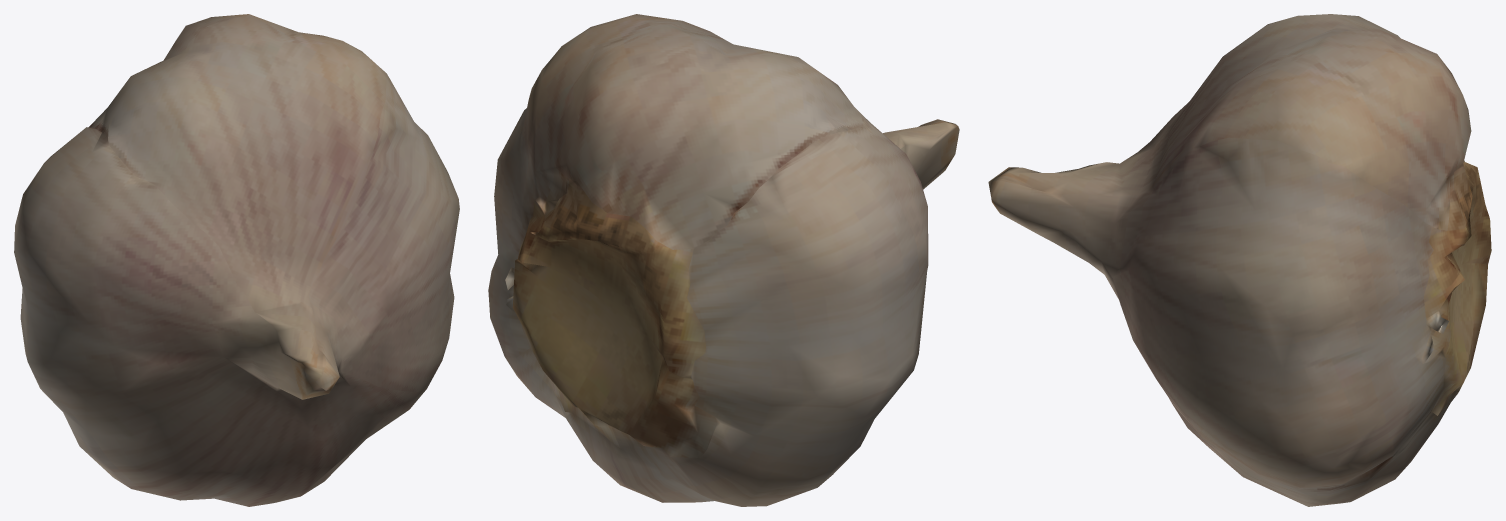
File: ref_cs_garlic.fbx
3 views of the same model, side by side, from view 1: azimuth 30°, elevation 25°; view 2: azimuth 150°, elevation 25°; view 3: azimuth 270°, elevation 25° (orthographic). The views are drawn at different scales.
Visible parts, largest first — view 1: ref_cs_garlic; view 2: ref_cs_garlic; view 3: ref_cs_garlic.
Boxes of the visible parts, left/top/right/bottom form: ref_cs_garlic: left=14, top=14, right=459, bottom=506; ref_cs_garlic: left=488, top=14, right=959, bottom=506; ref_cs_garlic: left=988, top=14, right=1491, bottom=506.
Size of the model in its own units: 93.32 by 99.87 by 100.
1 material, 1 textured.
